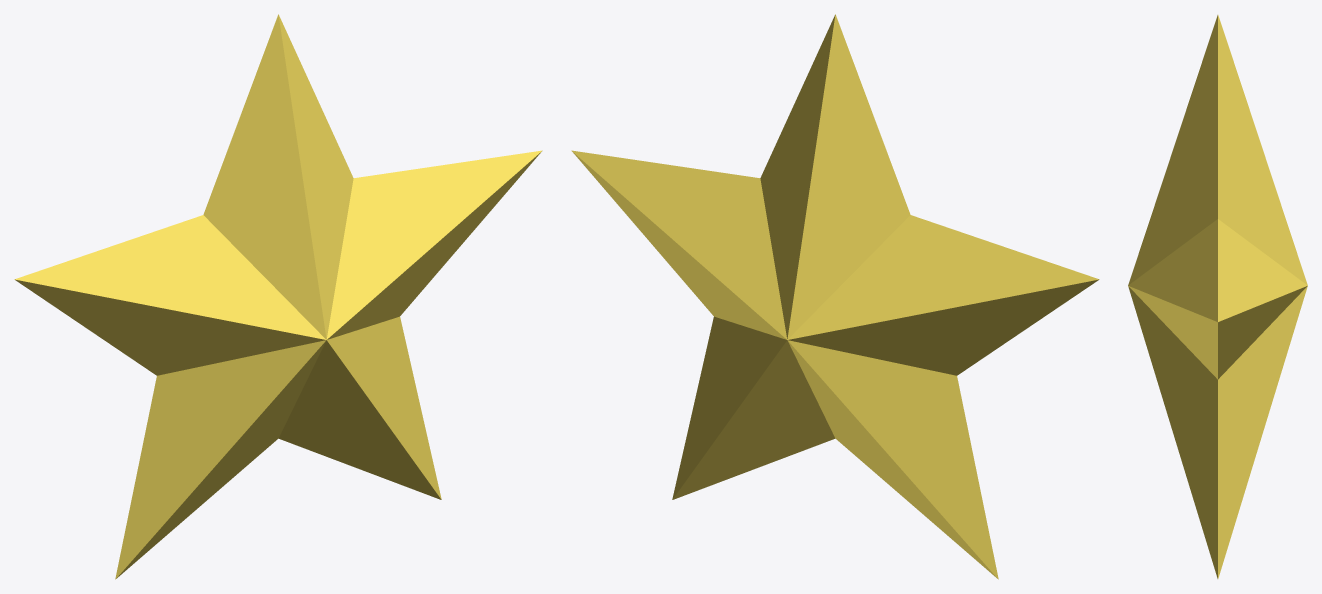
File: fx_star.glb
3 renders of one model, left to right at view 1: azimuth 30°, elevation 25°; view 2: azimuth 150°, elevation 25°; view 3: azimuth 270°, elevation 25°, orthographic. The views are drawn at different scales.
Visible parts, largest first — view 1: Star; view 2: Star; view 3: Star.
Part boxes in pixels (x1,y1,x2,y2): Star: (14, 14, 542, 579); Star: (571, 14, 1099, 579); Star: (1128, 15, 1307, 578).
Size of the model in its own units: 0.3804 by 0.3618 by 0.12.
